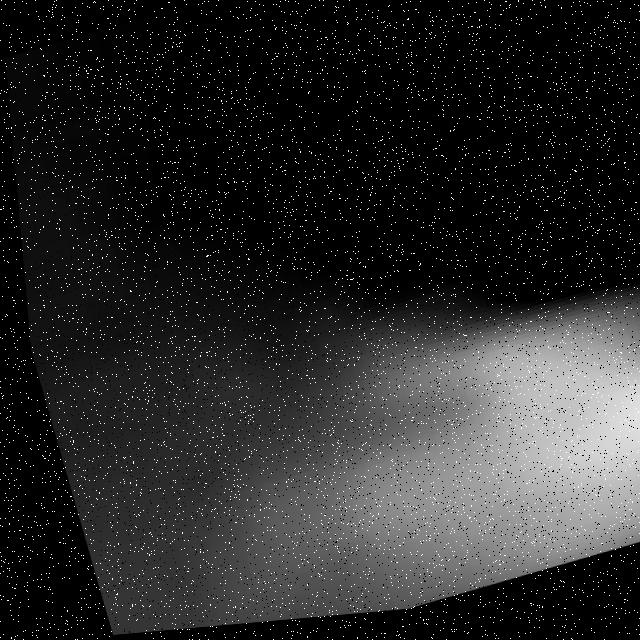person: (183, 262, 640, 630)
